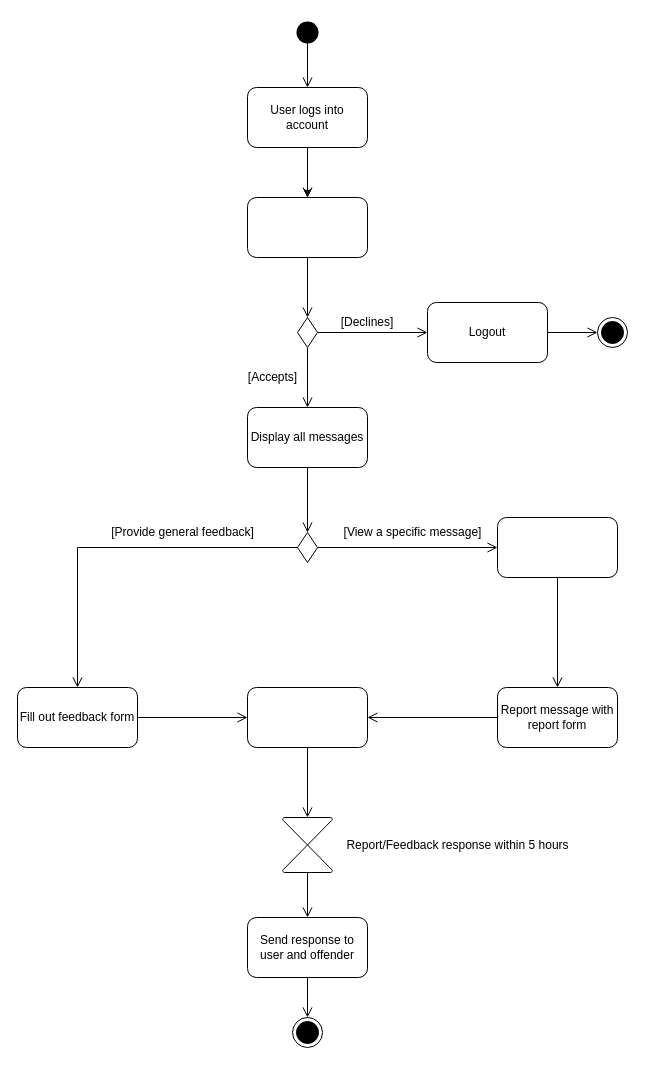
The diagram is 645 pixels wide and 1065 high, and some of its shapes have lost their labels. The box of each missing label's shape, as (x1, y1, x2, y2) in pixels:
Display community guidelines and rules: (246, 196, 368, 258)
Display message: (496, 516, 618, 578)
Provide confirmation of submission to account: (246, 686, 368, 748)
